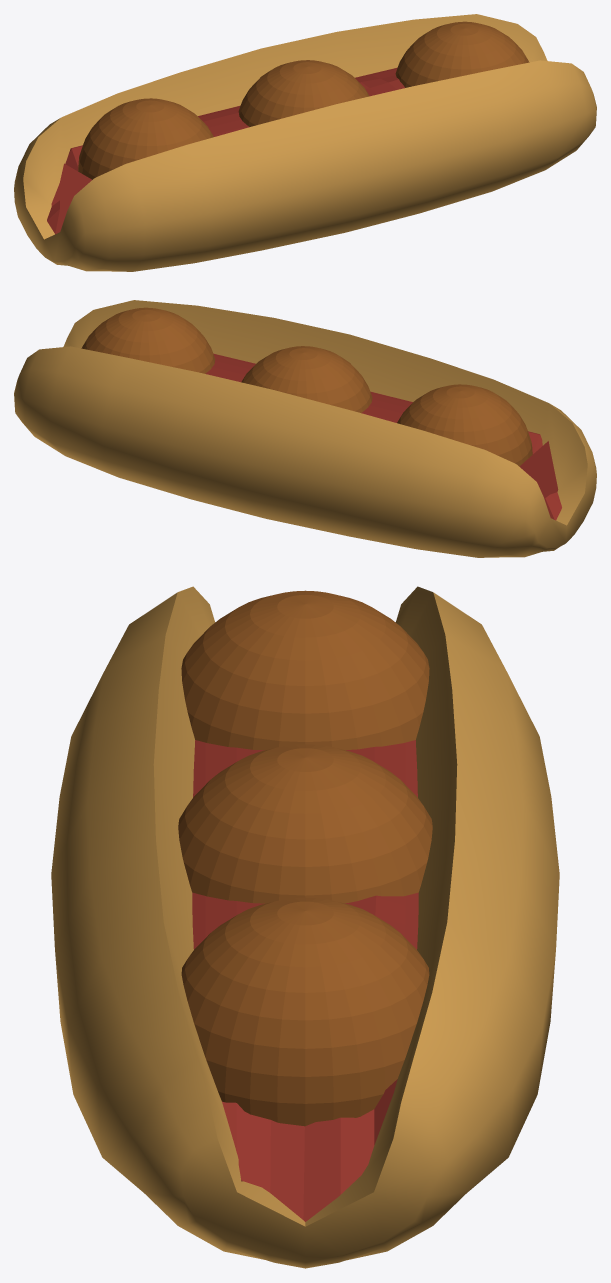
File: 3_3_bun.fbx
3 views of the same model, one above another, from view 1: azimuth 30°, elevation 25°; view 2: azimuth 150°, elevation 25°; view 3: azimuth 270°, elevation 25° (orthographic). The views are drawn at different scales.
Parts seen in each view (by area): view 1: Hotdog, Sphere.002, Sphere, Sphere.001, Cylinder; view 2: Hotdog, Sphere.002, Sphere, Sphere.001, Cylinder; view 3: Hotdog, Sphere, Sphere.001, Sphere.002, Cylinder.
Part boxes in pixels (x1,y1,x2,y2): Hotdog: [14, 14, 596, 271]; Sphere.002: [78, 98, 213, 179]; Sphere: [395, 21, 529, 87]; Sphere.001: [238, 60, 369, 126]; Cylinder: [47, 67, 404, 234]; Hotdog: [14, 300, 596, 557]; Sphere.002: [397, 384, 532, 466]; Sphere: [81, 307, 215, 373]; Sphere.001: [241, 346, 372, 412]; Cylinder: [205, 353, 561, 520]; Hotdog: [51, 586, 559, 1268]; Sphere: [181, 897, 429, 1126]; Sphere.001: [178, 744, 432, 903]; Sphere.002: [181, 590, 429, 750]; Cylinder: [192, 740, 418, 1221].
Bounding box in the file's own units: 50.47 × 14 × 21.02.
